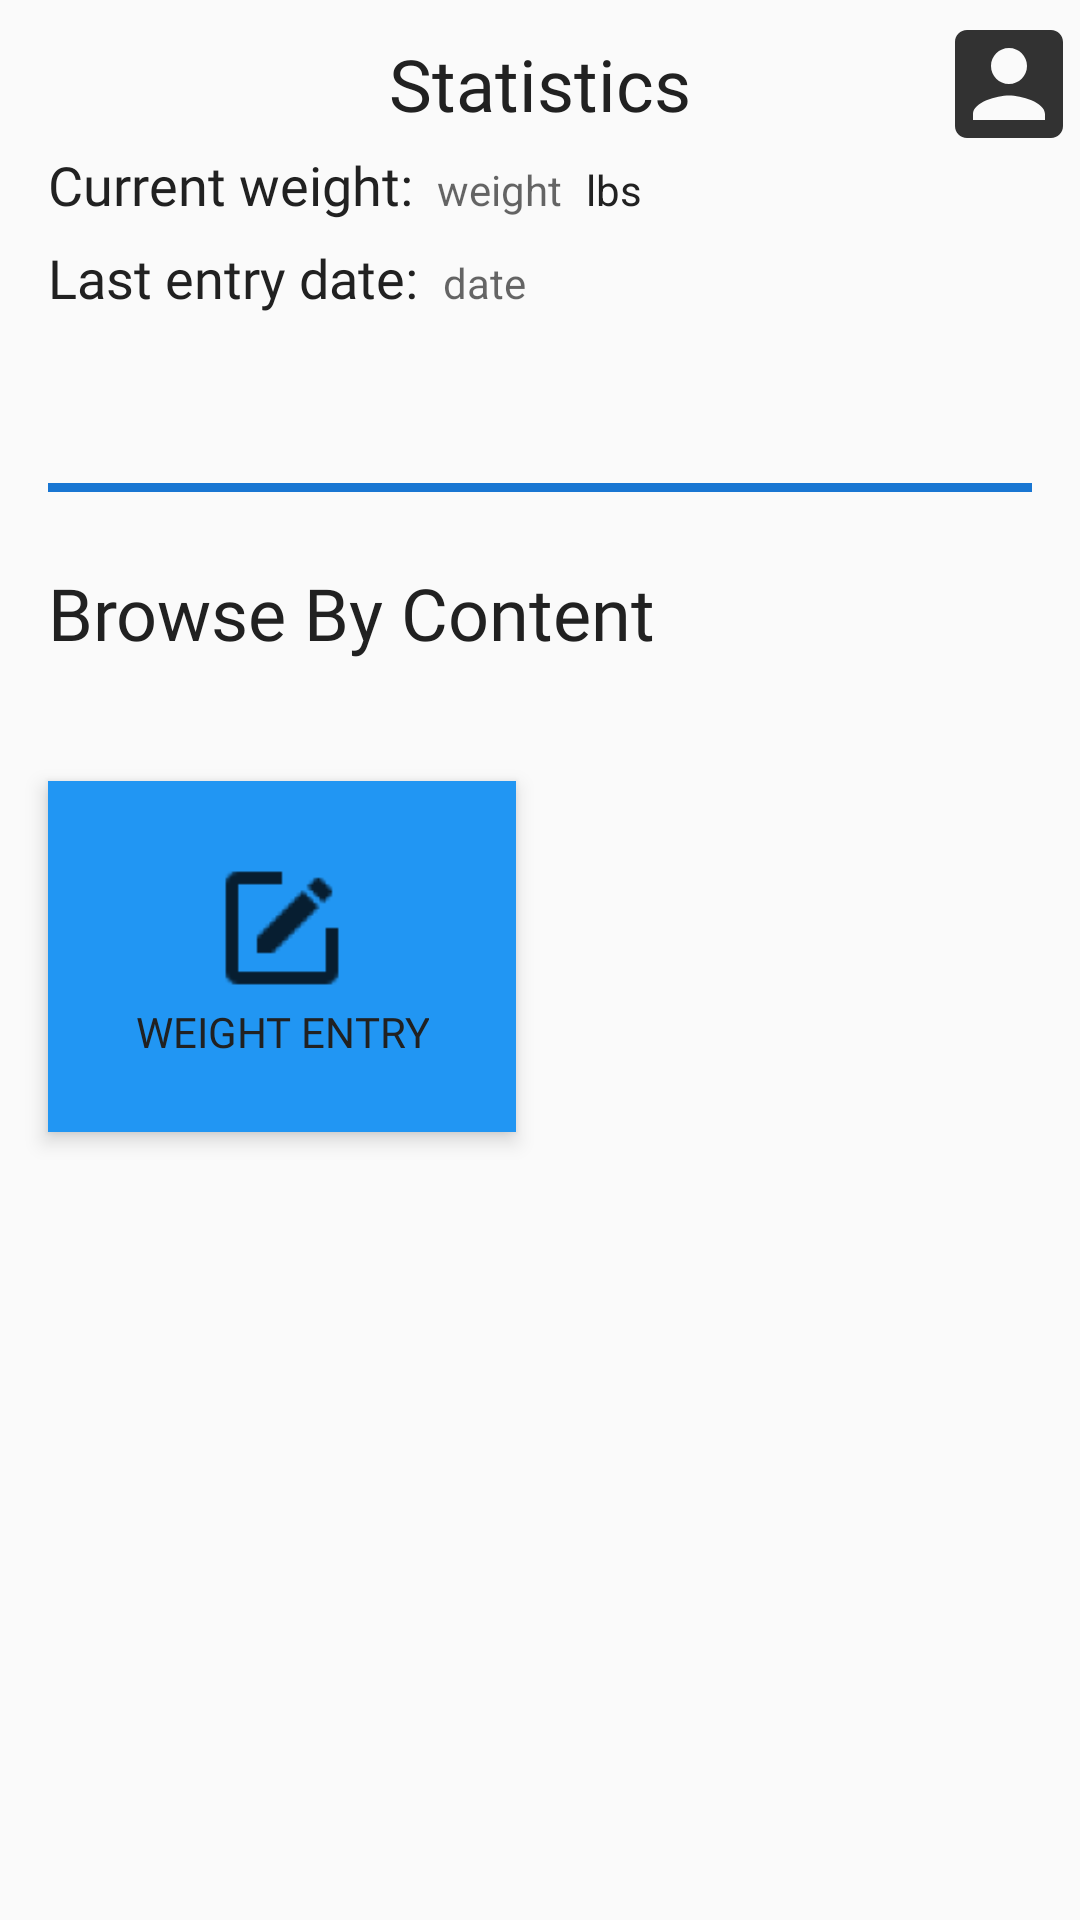

Screen size 1080 x 1920. Icon name, then its center in pixels as (x,y):
profile: (1009,84)
